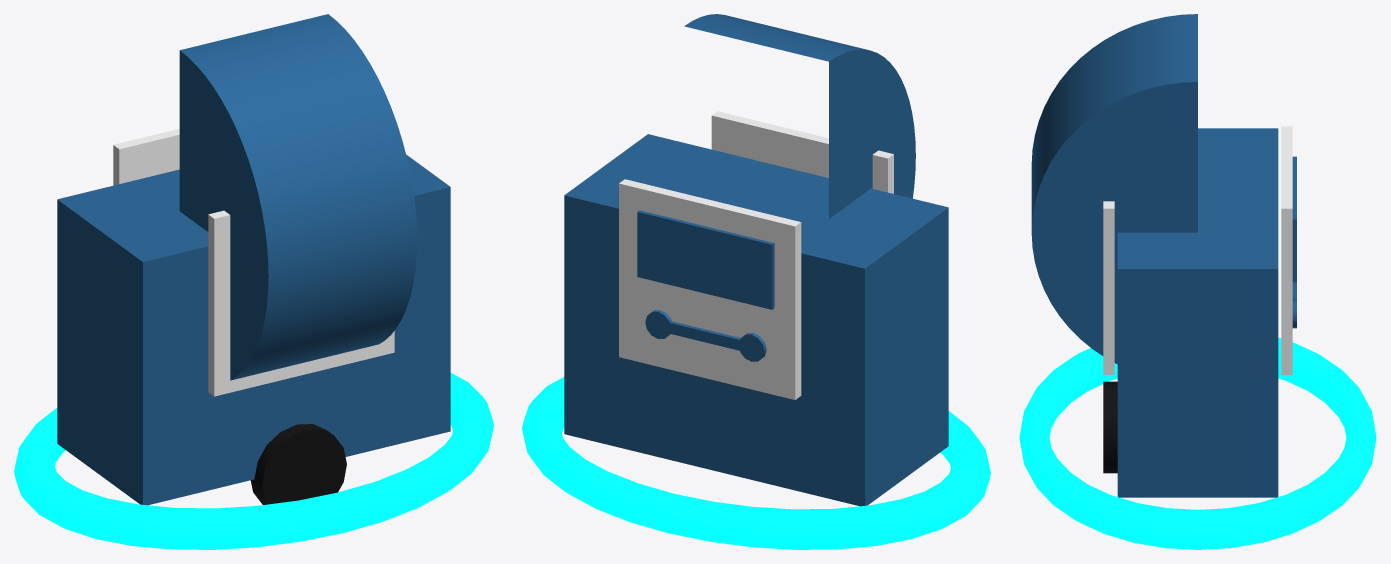
Rendered from bus_token.glb.
3 renders of one model, left to right at view 1: azimuth 30°, elevation 25°; view 2: azimuth 150°, elevation 25°; view 3: azimuth 270°, elevation 25°, orthographic. The views are drawn at different scales.
Parts seen in each view (by area): view 1: bus_token, selection_glow; view 2: bus_token, selection_glow; view 3: bus_token, selection_glow.
Boxes of the visible parts, left/top/right/bottom form: bus_token: left=57, top=14, right=450, bottom=505; selection_glow: left=14, top=373, right=493, bottom=549; bus_token: left=564, top=14, right=948, bottom=506; selection_glow: left=522, top=377, right=990, bottom=549; bus_token: left=1031, top=14, right=1296, bottom=497; selection_glow: left=1019, top=337, right=1376, bottom=549.
Bounding box in the file's own units: 0.83 × 0.81 × 0.6225.
